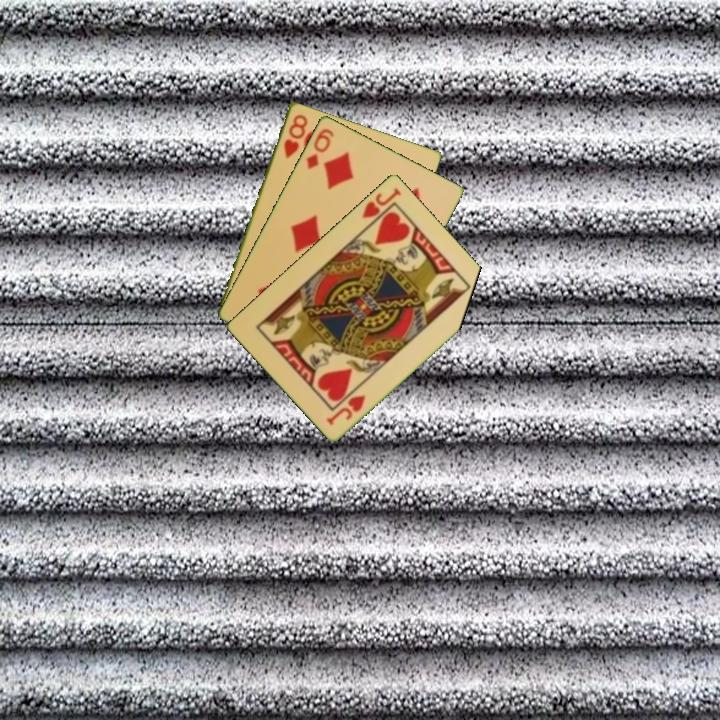6d: (302, 124, 337, 172)
8h: (280, 110, 310, 161)
Jh: (358, 184, 404, 231), (323, 391, 369, 428)
